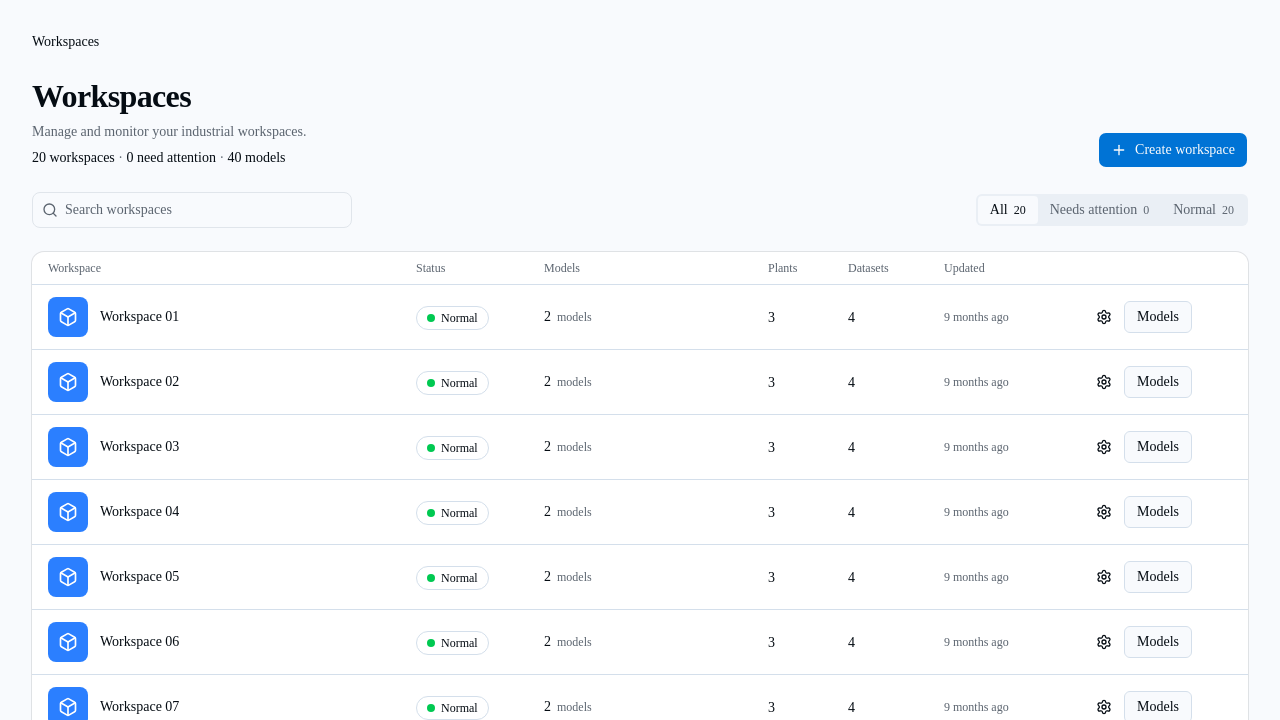
Test: WorkspacesPage › pagination › says so when nothing matches, instead of showing an empty page
Type "no such workspace" into the field with placeholder "Search workspaces" at point(192, 210), box x1=32 y1=192 x2=352 y2=228
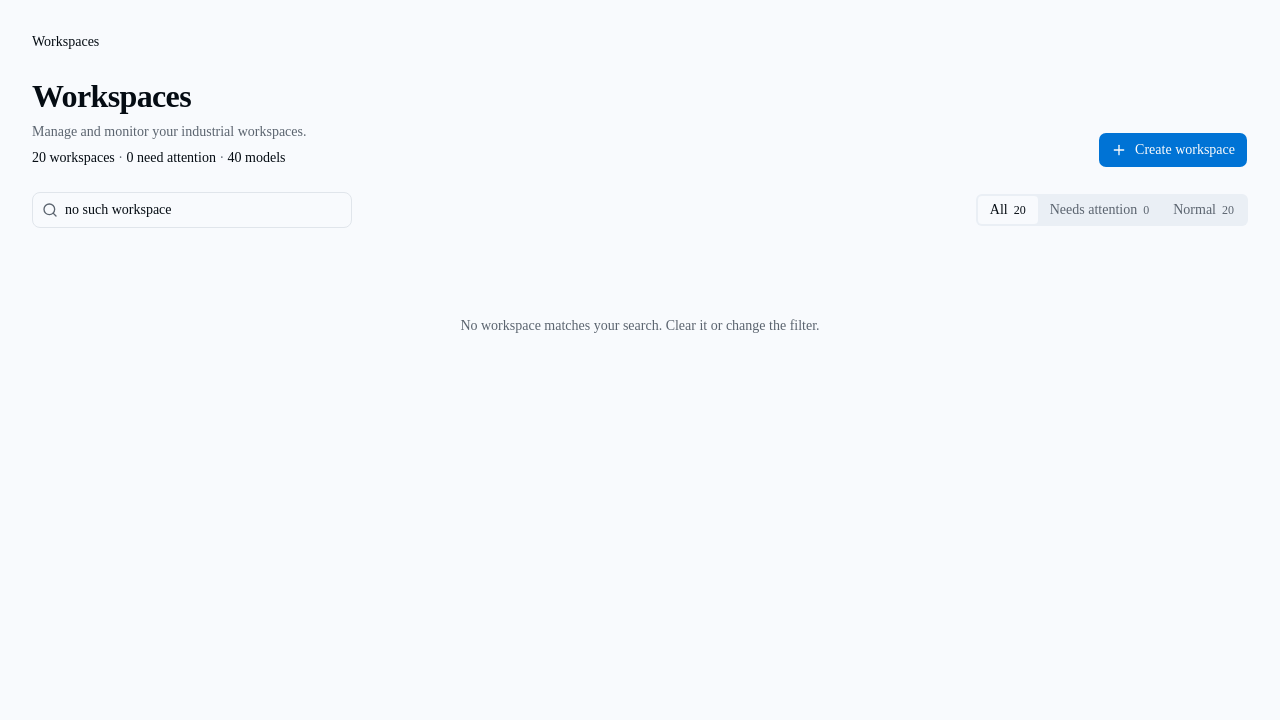
Expected: the message shows "No workspace matches your search", x1=460 y1=318 x2=820 y2=333
